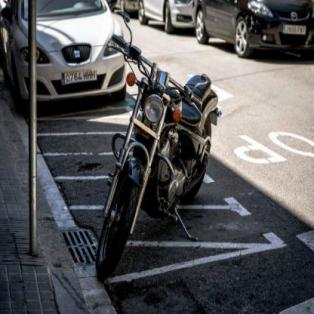Motocicleta: (88, 20, 219, 286)
